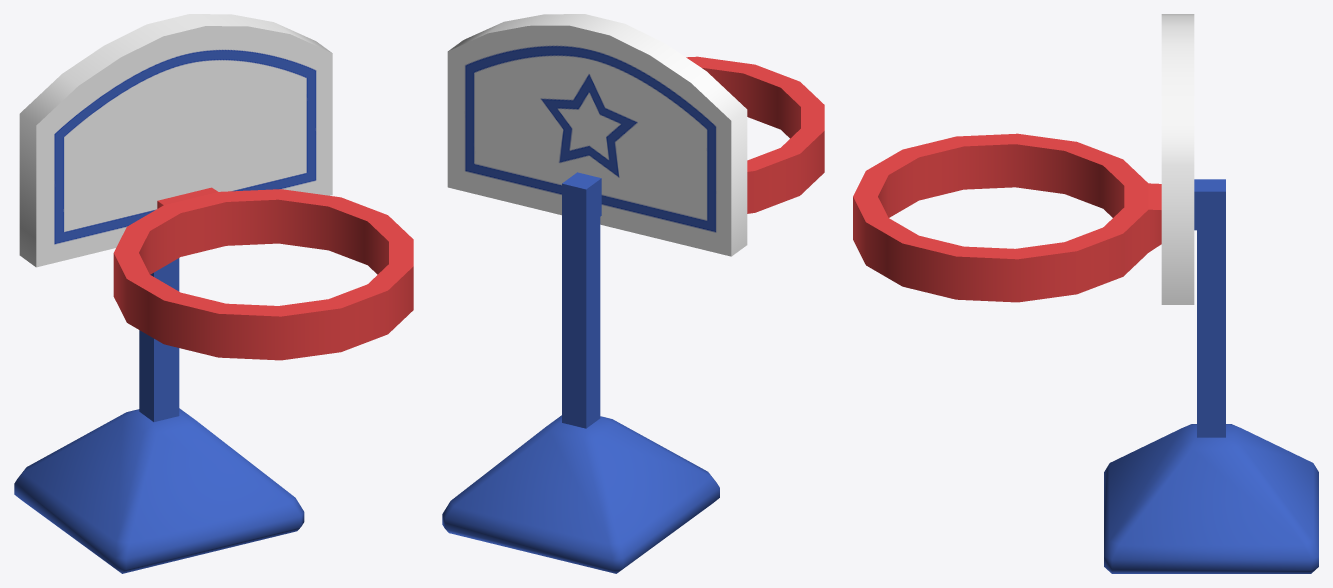
The model's file is basketballNet.fbx.
The picture shows the model from 3 angles, left to right: view 1: azimuth 30°, elevation 25°; view 2: azimuth 150°, elevation 25°; view 3: azimuth 270°, elevation 25°; orthographic projection. The views are drawn at different scales.
Parts seen in each view (by area): view 1: basketBallNet; view 2: basketBallNet; view 3: basketBallNet.
Part boxes in pixels (left/top/right/bottom): basketBallNet: left=14, top=14, right=413, bottom=573; basketBallNet: left=442, top=14, right=824, bottom=573; basketBallNet: left=853, top=14, right=1318, bottom=573.
Size of the model in its own units: 113 by 184 by 157.
Materials: 1 (1 with a texture image).
